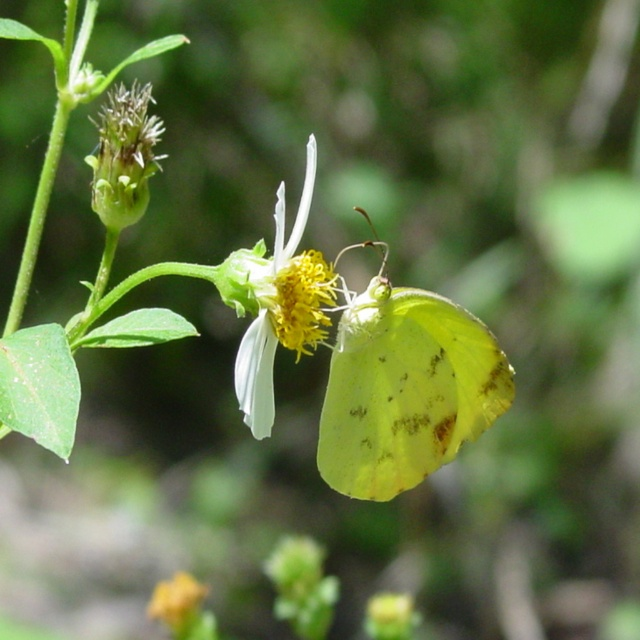Butterfly: (318, 252, 510, 504)
